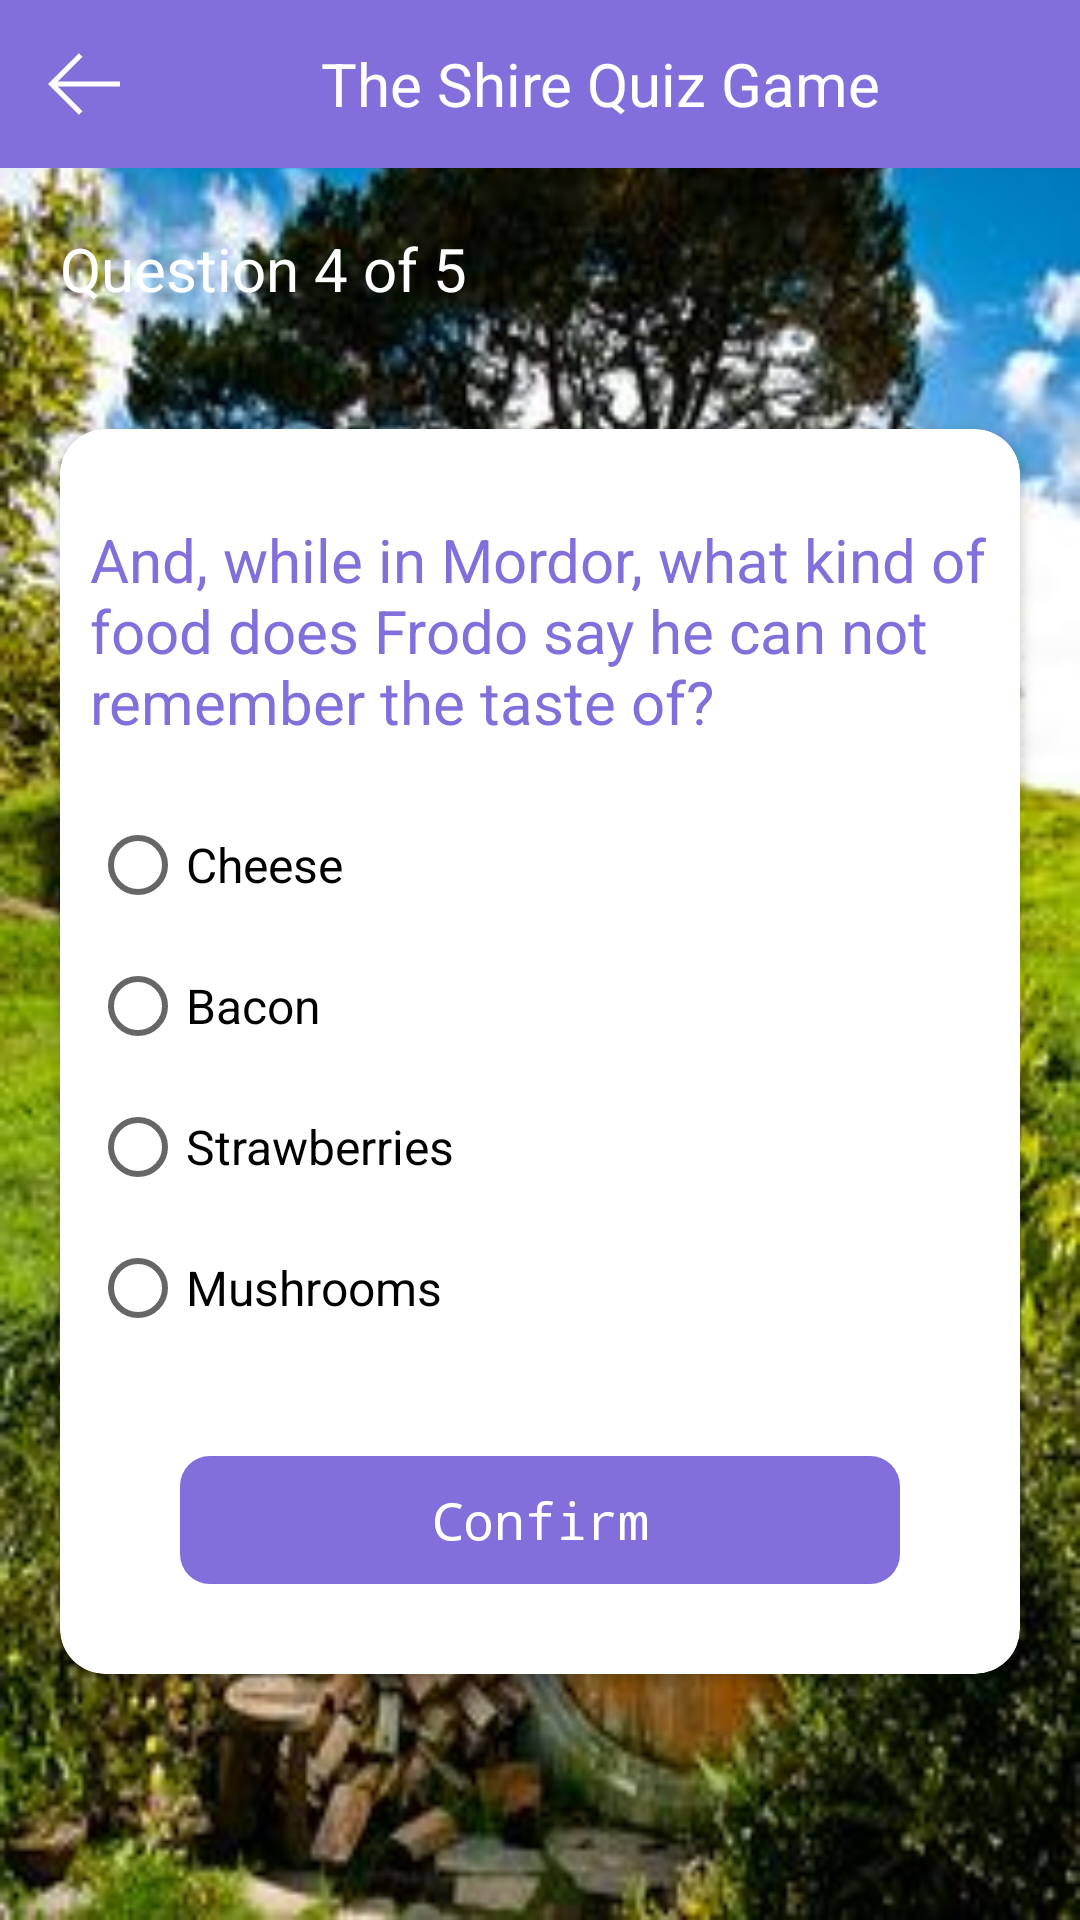

Point at icon controls on the screen. Image size 1080x1920, points as (x,y).
left arrow: (84,84)
